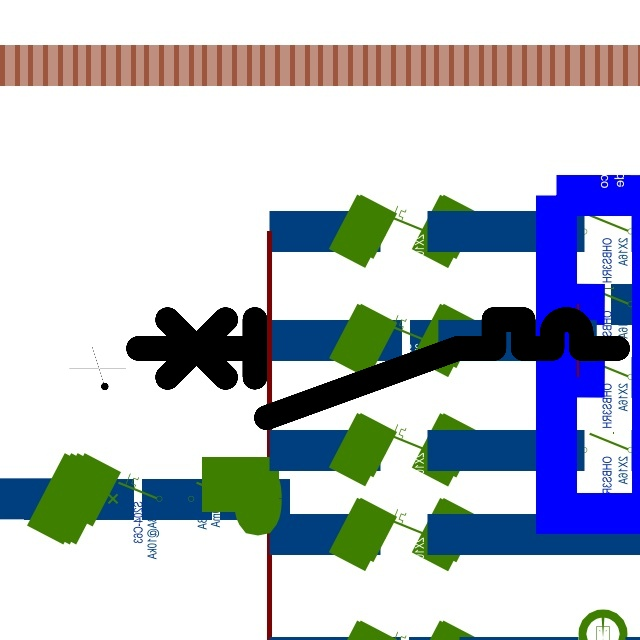interruptor_termomagnetico: (126, 307, 630, 430)
